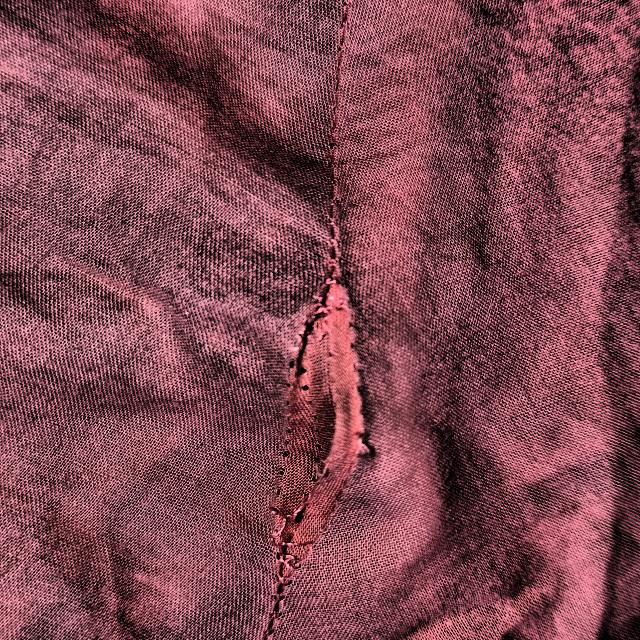seam: (211, 245, 406, 615)
